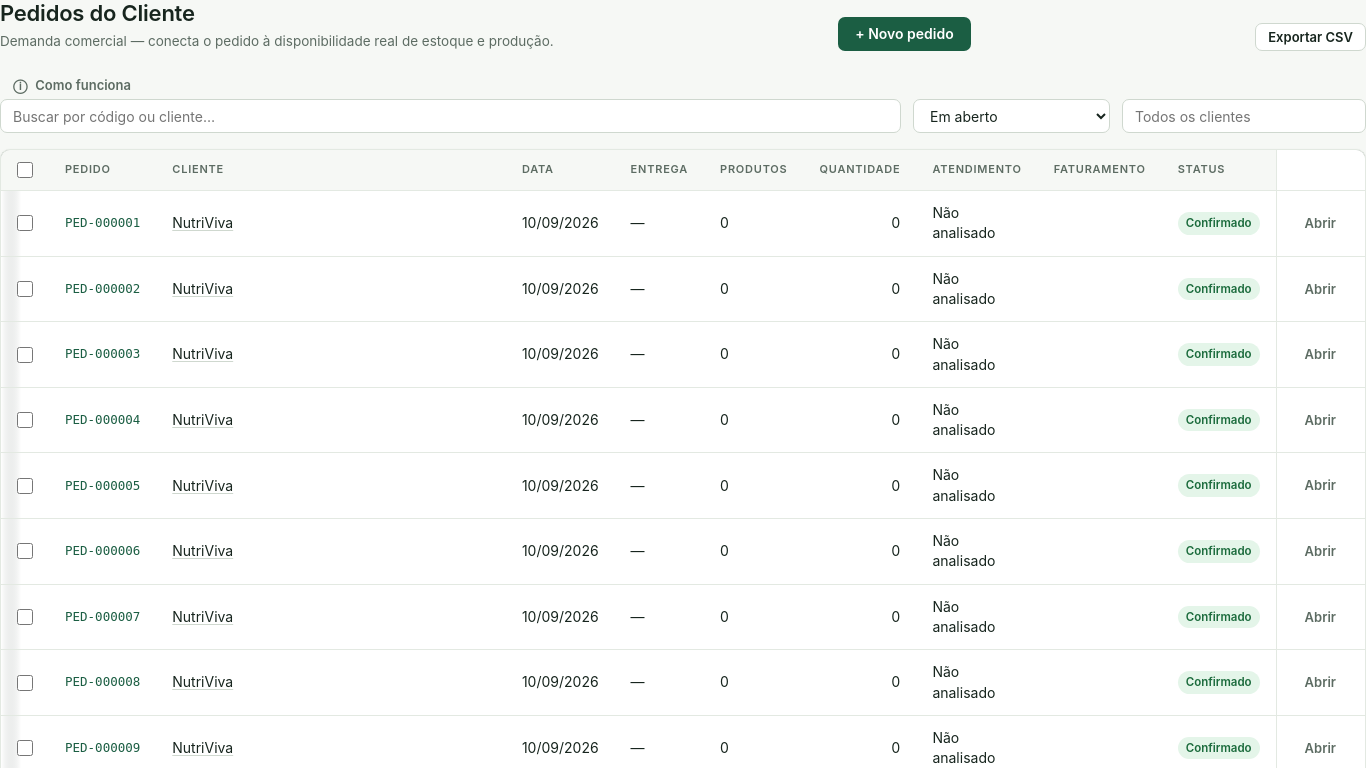
it: ações documentais na barra da seleção › recusa do servidor vira alerta na barra, sem download e sem perder a seleção
Click the checkbox named "Selecionar todos os registros desta página" at x=25, y=170, box [17,162,33,178]
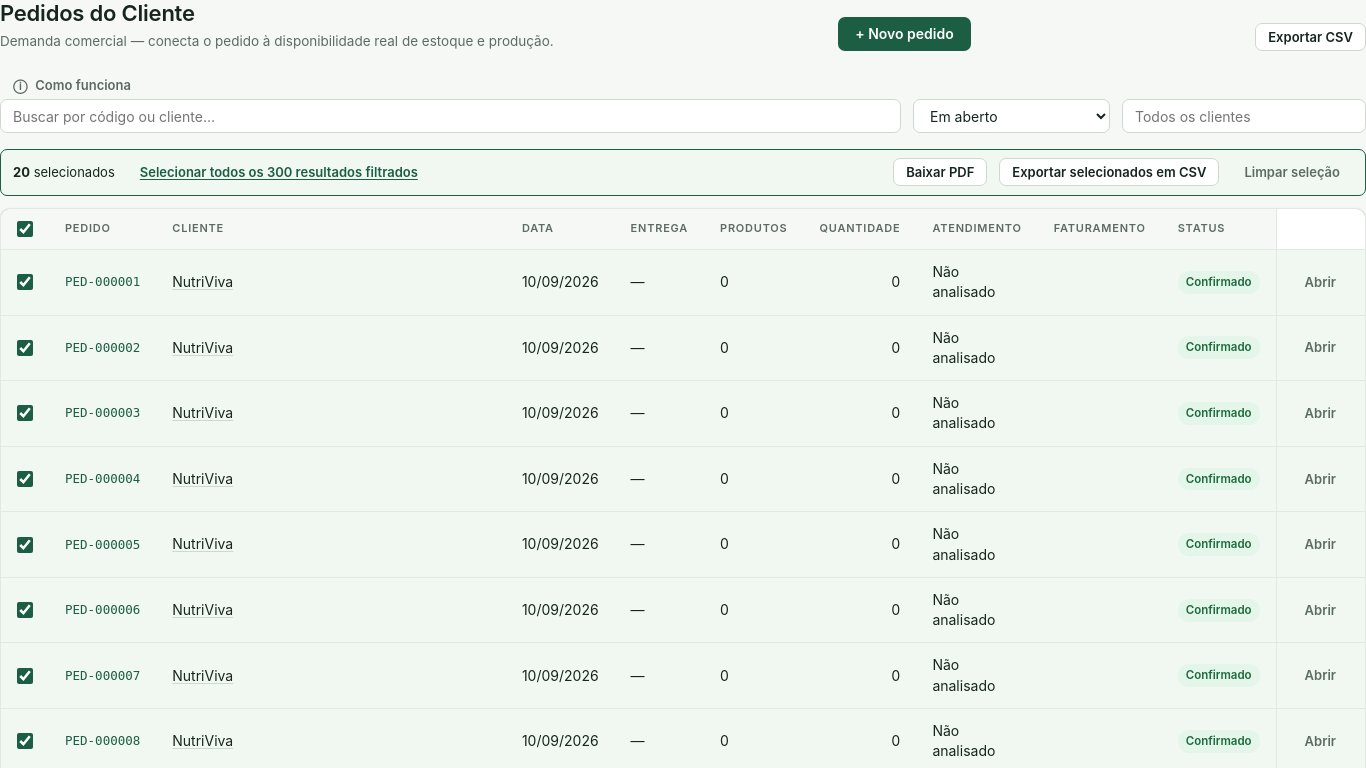
Click the button "Selecionar todos os 300 resultados filtrados" at x=279, y=172, box [127,158,431,187]
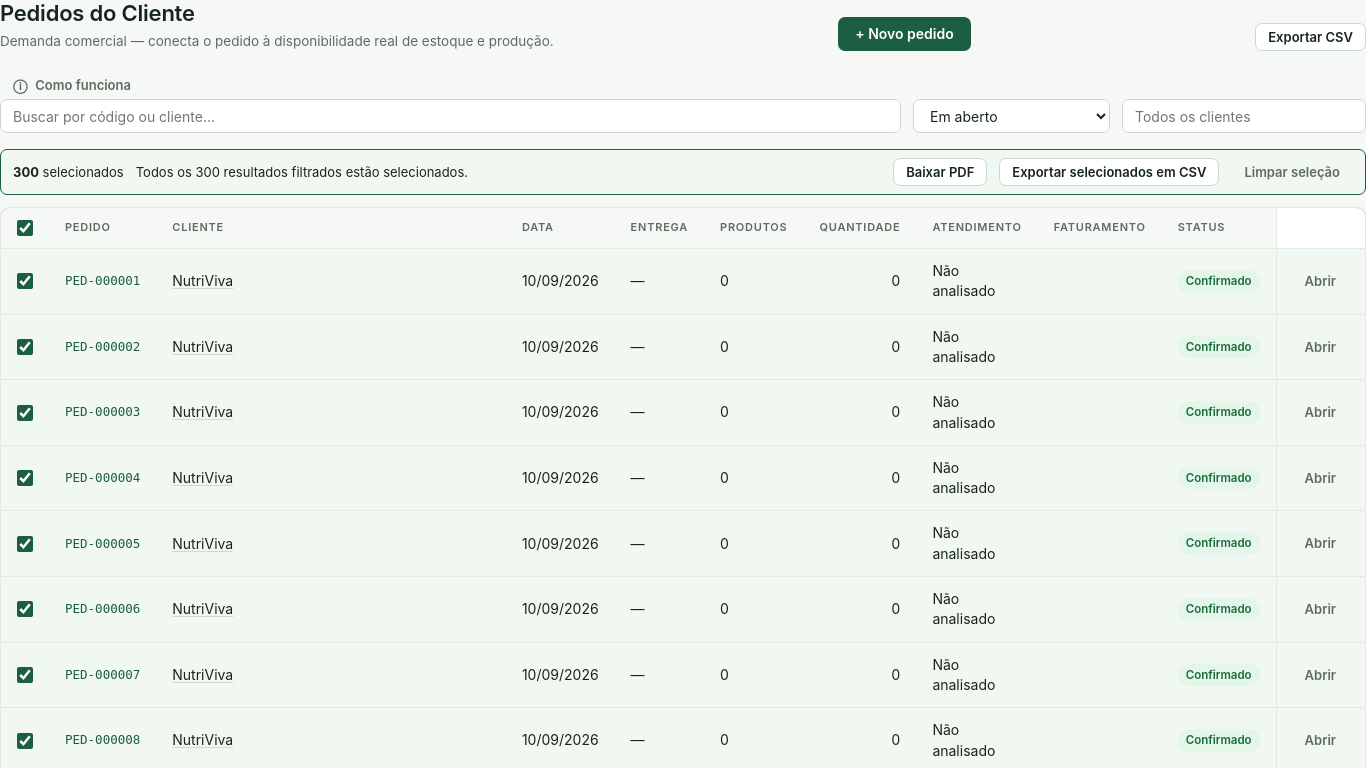
Now the element with class "bulk-bar__count" reads "300 selecionados", box [13,163,124,181]
Click the button "Baixar PDF" at x=940, y=172, box [893,158,987,186]
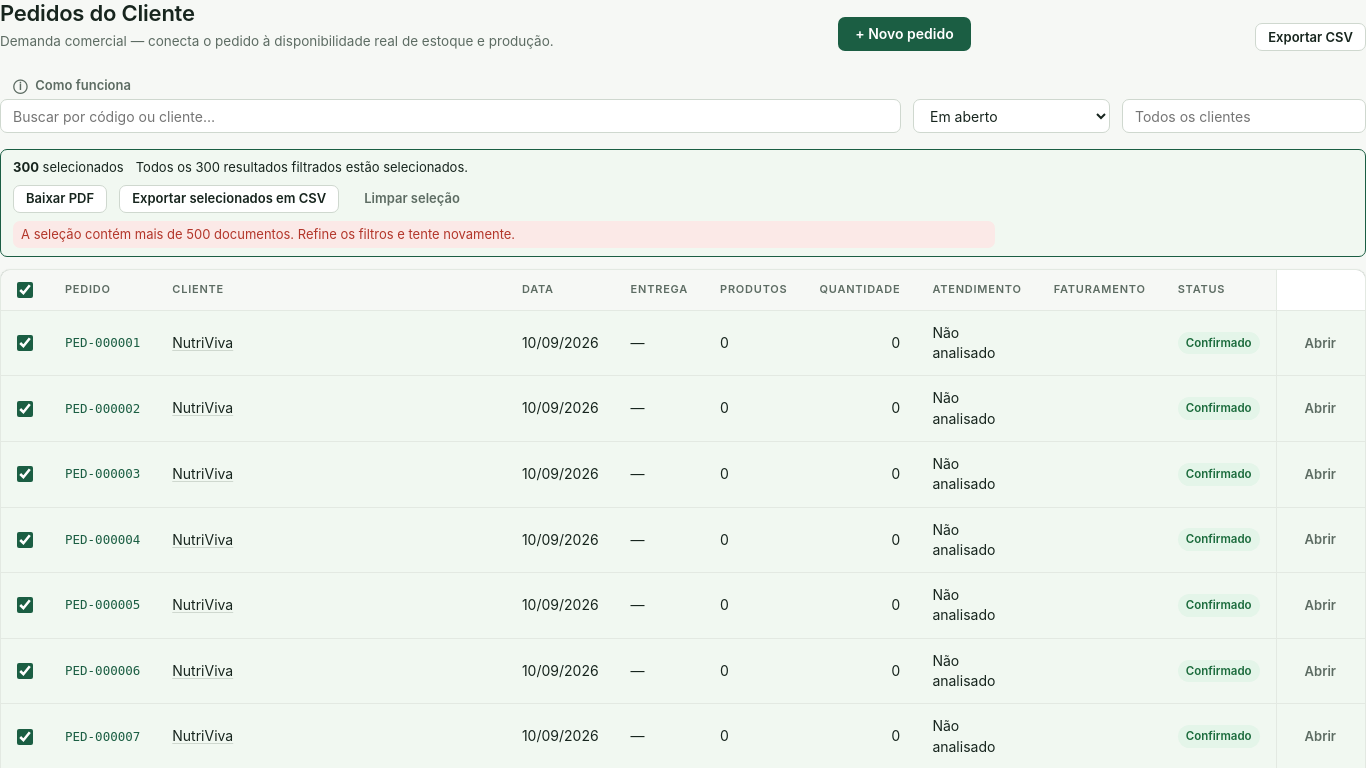
Now the element with class "bulk-bar__count" reads "300 selecionados", box [13,158,124,177]
Now the button "Baixar PDF" is enabled, box [13,185,107,213]
Now the message reads "A seleção contém mais de 500 documentos. Refine os filtros e tente novamente.", box [21,226,515,242]
